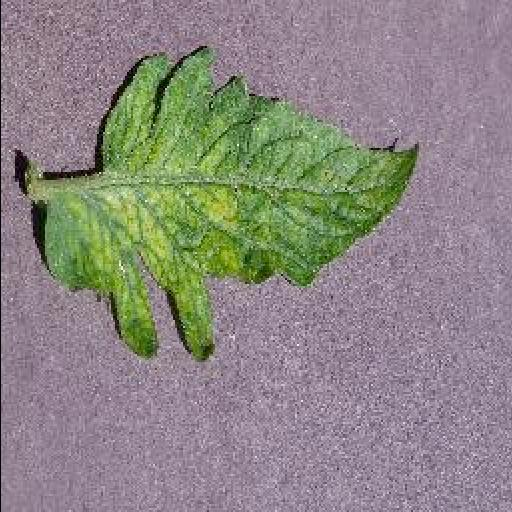disease_tomato: (36, 44, 426, 366)
